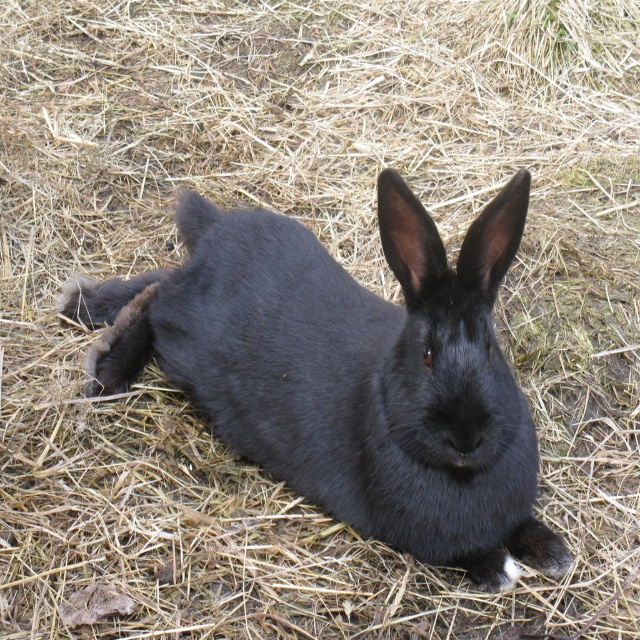Rabbit: (54, 167, 571, 593)
